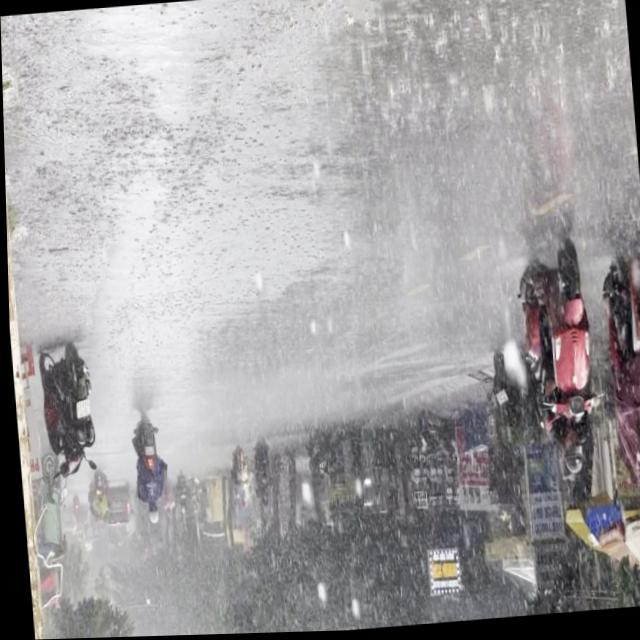helmet: (560, 432, 581, 479), (633, 431, 640, 478)
licenseplate: (510, 237, 604, 487)
